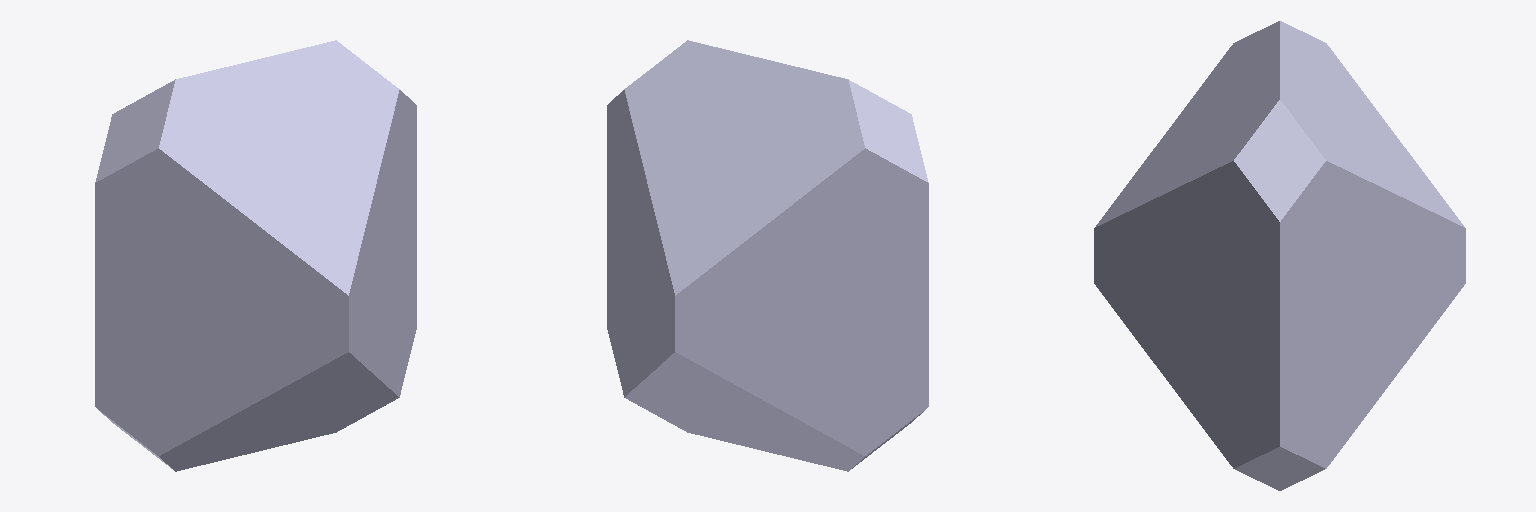
Rendered from pearl.obj.
The picture shows the model from 3 angles: view 1: azimuth 30°, elevation 25°; view 2: azimuth 150°, elevation 25°; view 3: azimuth 270°, elevation 25°; orthographic projection.
Bounding box in the file's own units: 1.7 × 1.98 × 1.7.